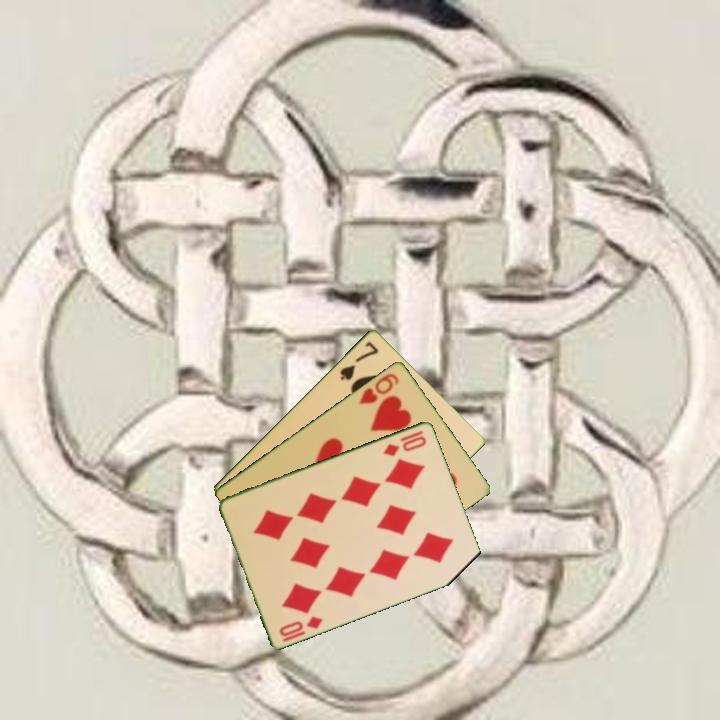10d: (380, 427, 429, 459), (276, 612, 326, 639)
6h: (356, 369, 402, 407)
7s: (336, 337, 381, 383)
